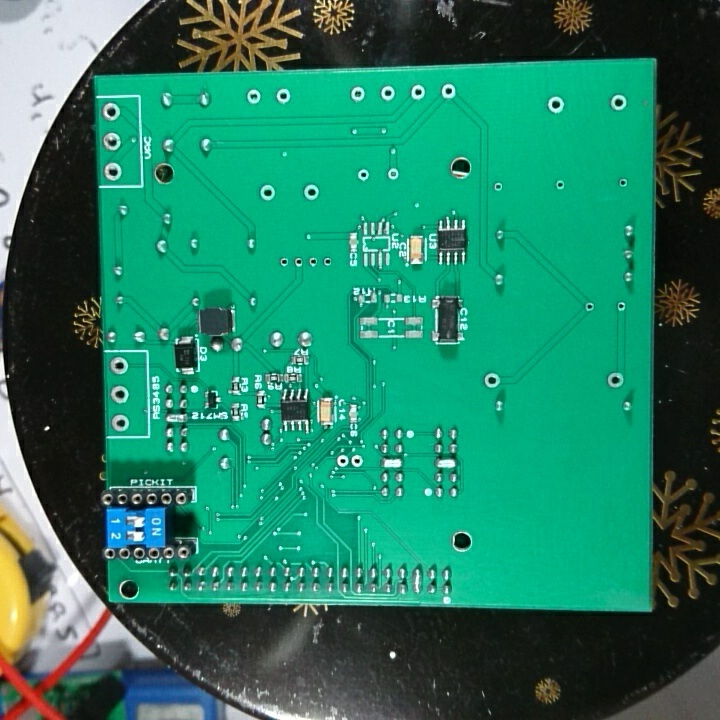F: (544, 95, 569, 118), (101, 101, 124, 125), (101, 159, 124, 183), (109, 355, 131, 379), (255, 180, 277, 204), (109, 383, 131, 406), (108, 412, 132, 433), (607, 91, 630, 112), (273, 85, 296, 106), (436, 80, 460, 100), (101, 130, 122, 152), (301, 180, 320, 204), (244, 86, 266, 106), (479, 370, 502, 389), (407, 81, 427, 102), (604, 370, 626, 389), (348, 85, 367, 106), (377, 83, 396, 102), (349, 451, 366, 469), (355, 166, 373, 183), (384, 166, 401, 183), (334, 453, 350, 471), (491, 178, 507, 194), (614, 175, 631, 190), (321, 252, 333, 271), (584, 298, 596, 315), (613, 300, 627, 314), (553, 178, 568, 191), (307, 254, 319, 270), (293, 255, 305, 270), (278, 255, 290, 268)
P: (410, 563, 424, 598), (431, 455, 461, 470), (381, 455, 406, 472), (162, 412, 190, 426)
